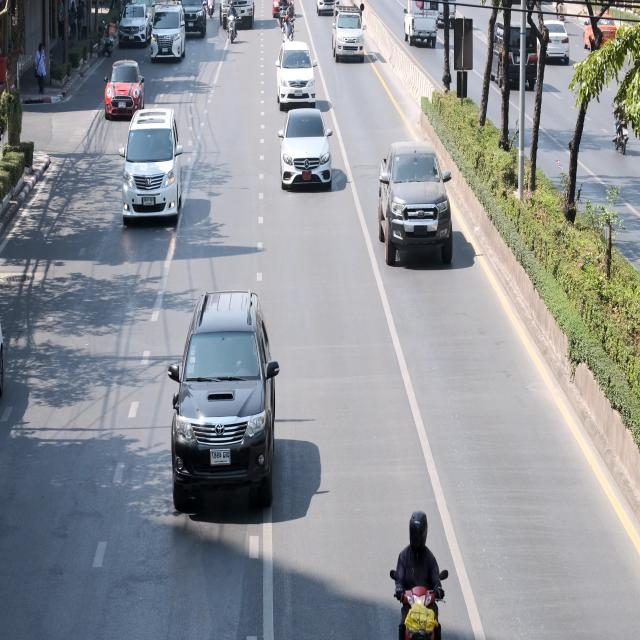cars: (160, 272, 296, 533), (355, 127, 463, 290), (118, 95, 194, 247), (262, 100, 338, 215), (85, 46, 156, 138), (476, 12, 540, 105), (262, 36, 320, 118), (328, 8, 370, 78), (148, 14, 188, 76), (399, 0, 442, 54), (580, 10, 624, 60), (538, 19, 572, 75), (176, 0, 210, 51), (115, 0, 149, 50), (140, 0, 165, 40), (429, 0, 463, 28)
motorcycle: (376, 480, 470, 640), (602, 76, 634, 179), (95, 18, 118, 66), (224, 1, 242, 51), (282, 5, 295, 48), (282, 0, 296, 33)
